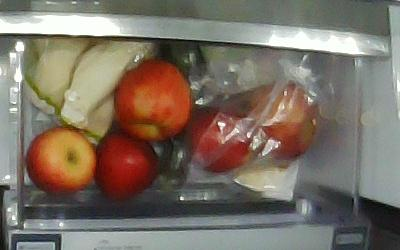apple: (112, 55, 192, 141), (24, 124, 97, 195), (92, 128, 160, 199)
apple_vinyl: (245, 78, 319, 159), (182, 104, 256, 172)
